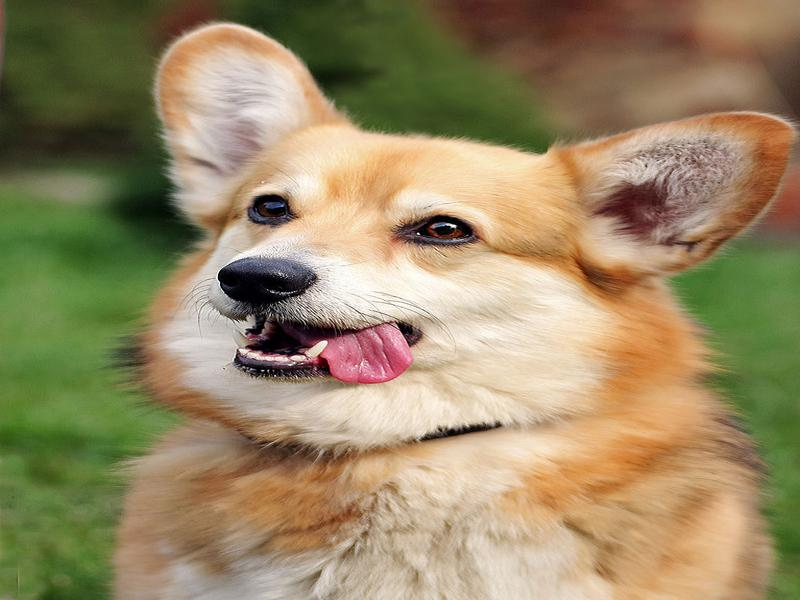corgi: (126, 21, 800, 462)
